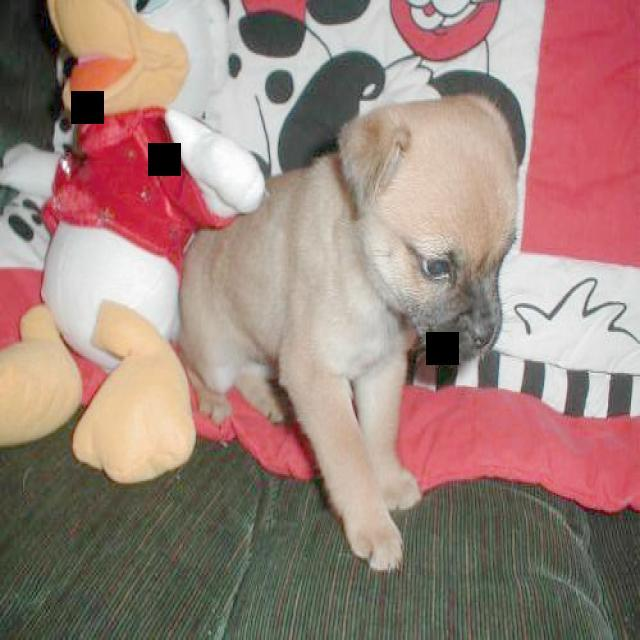non-dog: (0, 0, 268, 486)
puppy-dog: (175, 92, 520, 574)
